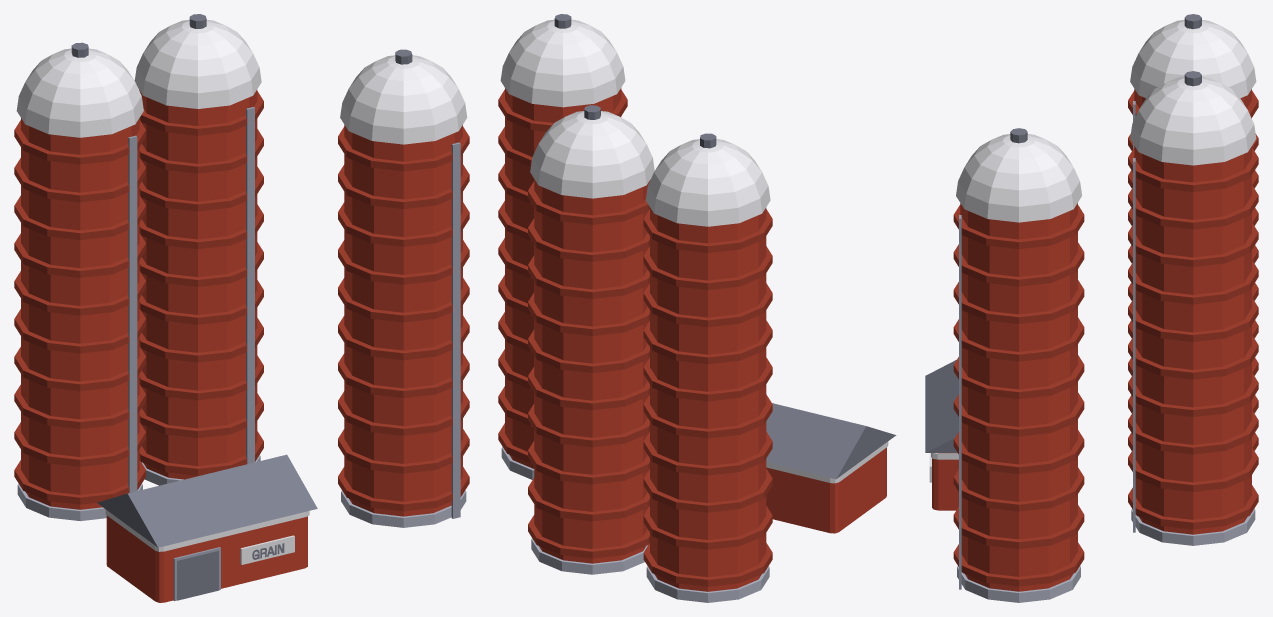
Rendered from silo-2x2-t10-tone-a.glb.
3 renders of one model, left to right at view 1: azimuth 30°, elevation 25°; view 2: azimuth 150°, elevation 25°; view 3: azimuth 270°, elevation 25°, orthographic.
Parts seen in each view (by area): view 1: silo-2x2-t10-tone-a; view 2: silo-2x2-t10-tone-a; view 3: silo-2x2-t10-tone-a.
Part boxes in pixels (box(x1,y1,x2,y2)): silo-2x2-t10-tone-a: box(14, 14, 469, 602); silo-2x2-t10-tone-a: box(498, 14, 896, 602); silo-2x2-t10-tone-a: box(925, 14, 1258, 602).
Size of the model in its own units: 1.84 by 2.26 by 1.53.
1 material, 1 textured.
